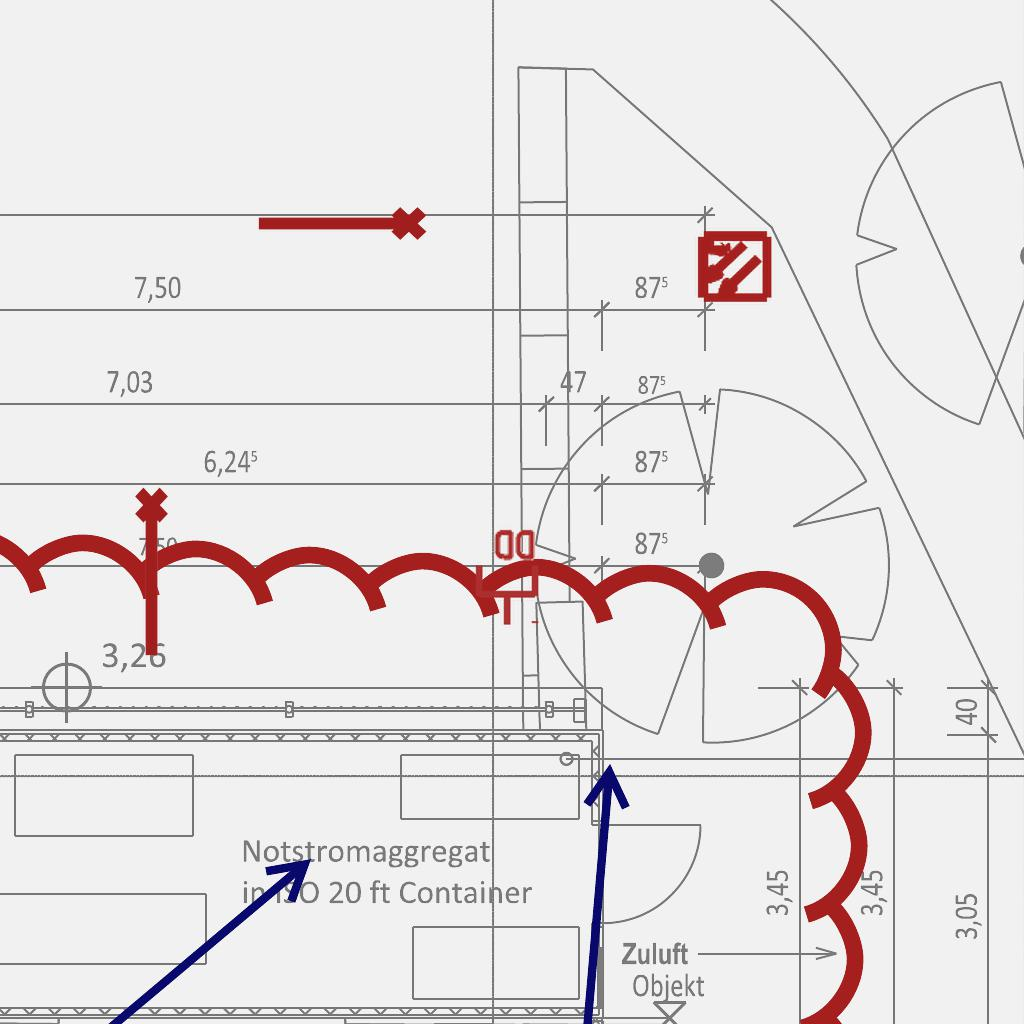ASR_Ansaugoeffnung: (253, 203, 429, 249), (131, 485, 177, 661)
Datenanschluss_zweifach: (471, 525, 540, 628)
OT_Multisensormelder_(Kombination_RMO_WMD): (676, 210, 789, 323)
